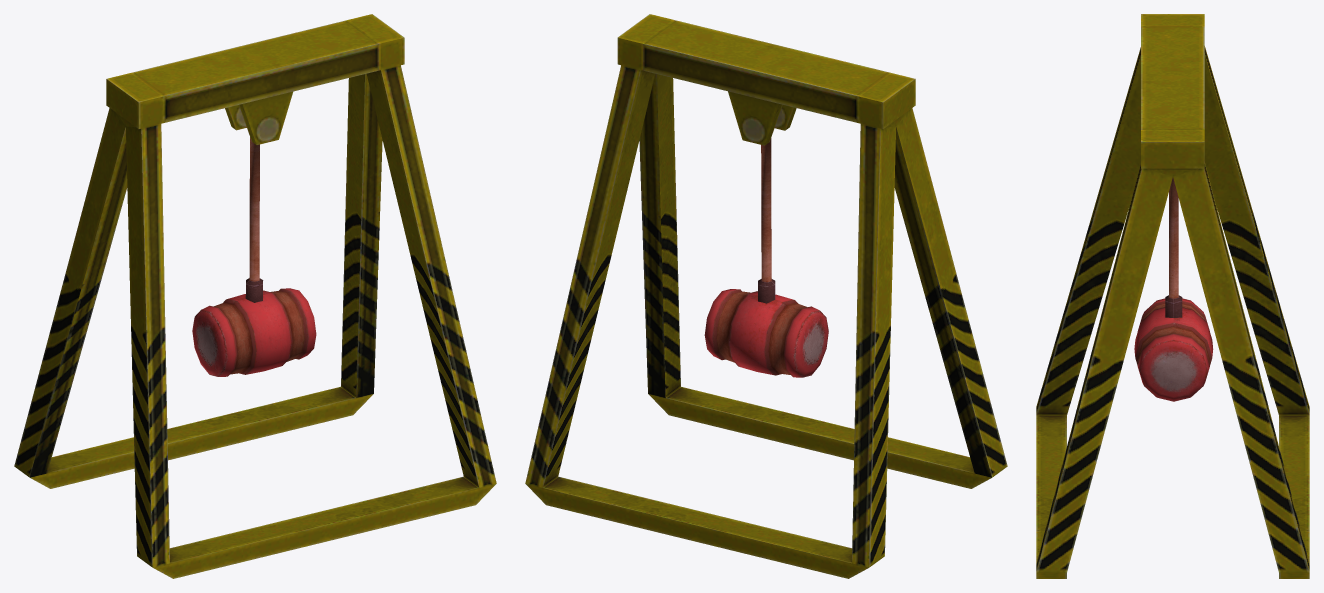
The model's file is hammer.fbx.
The picture shows the model from 3 angles, left to right: view 1: azimuth 30°, elevation 25°; view 2: azimuth 150°, elevation 25°; view 3: azimuth 270°, elevation 25°; orthographic projection.
Parts seen in each view (by area): view 1: Hummer_pendulum, hammer; view 2: Hummer_pendulum, hammer; view 3: Hummer_pendulum, hammer.
Boxes of the visible parts, x1,y1,x2,y2 form: Hummer_pendulum: (14, 14, 496, 578); hammer: (192, 137, 316, 376); Hummer_pendulum: (525, 14, 1007, 578); hammer: (704, 138, 828, 377); Hummer_pendulum: (1036, 14, 1309, 578); hammer: (1134, 177, 1213, 401).
Bounding box in the file's own units: 3153 × 3792 × 2195.
